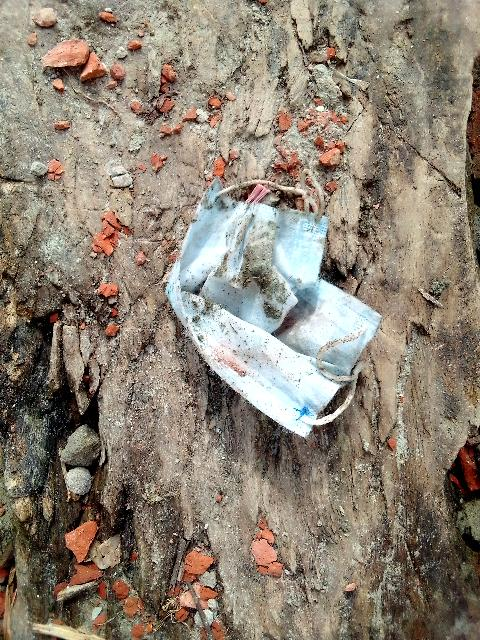mask: (176, 185, 388, 419)
